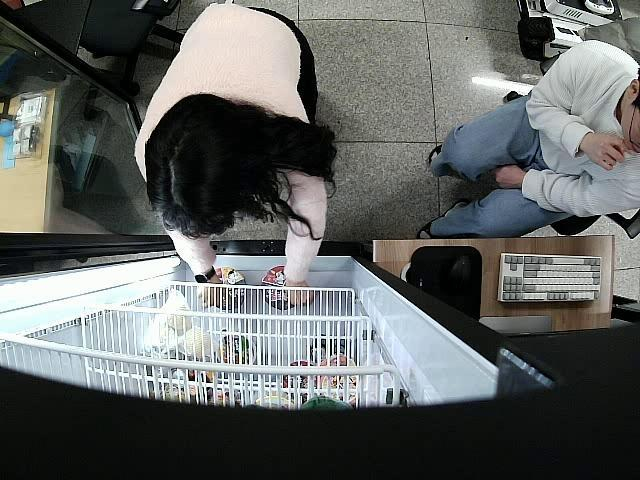07_buldak_L: (260, 267, 292, 312), (214, 267, 246, 310)
